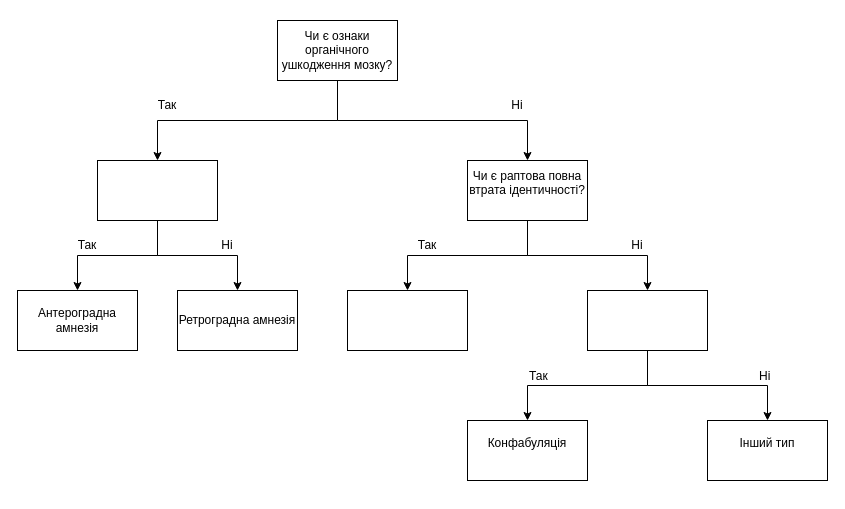
This 845x509 diagram has some shape labels left out. Here are the shapes that lost their labels. From the top down, the box of each, then its label:
(96, 160, 218, 220): Чи може формувати нові спогади?
(346, 290, 468, 350): Психогенна фуга
(586, 290, 708, 350): Чи вигадує неправдиві спогади та вірить у них?
